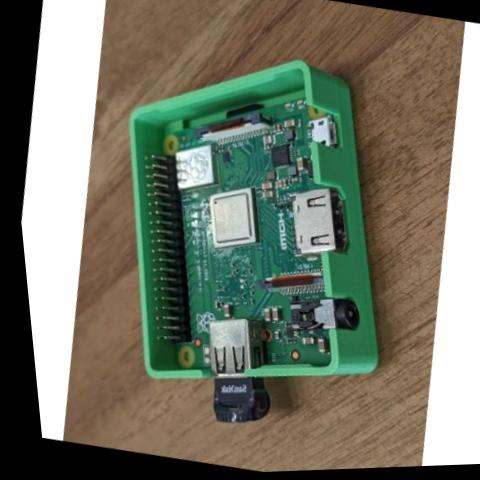Raspberry-Pi-3-Model-A-: (87, 58, 420, 416)
